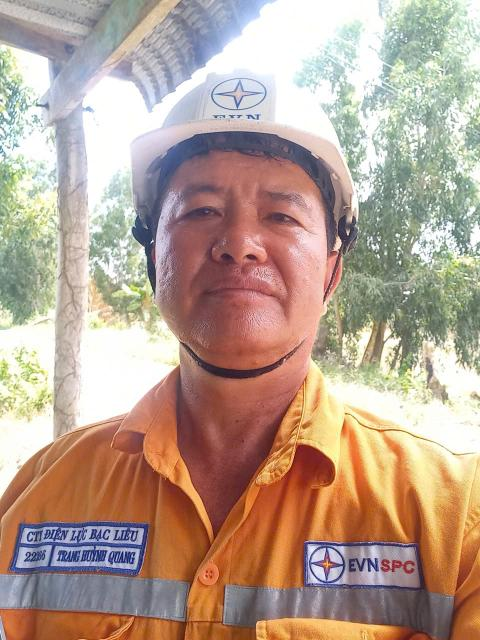helmet: (96, 51, 370, 241)
